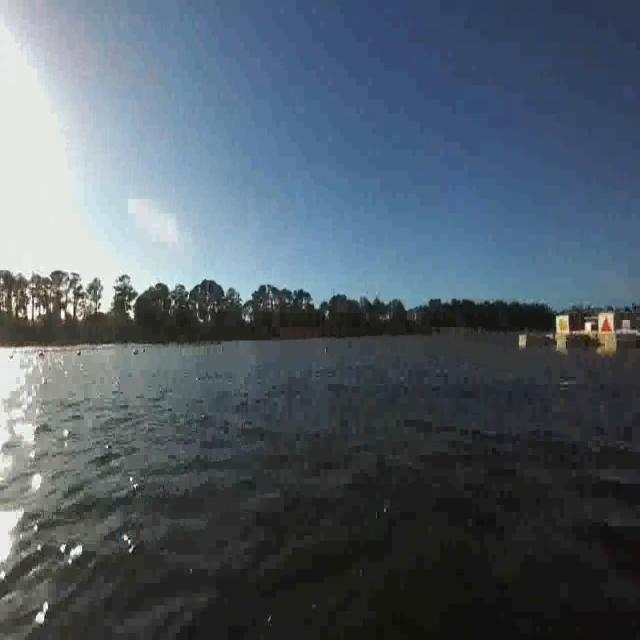red-dot: (598, 311, 614, 337)
yellow-duck: (558, 314, 568, 333)
